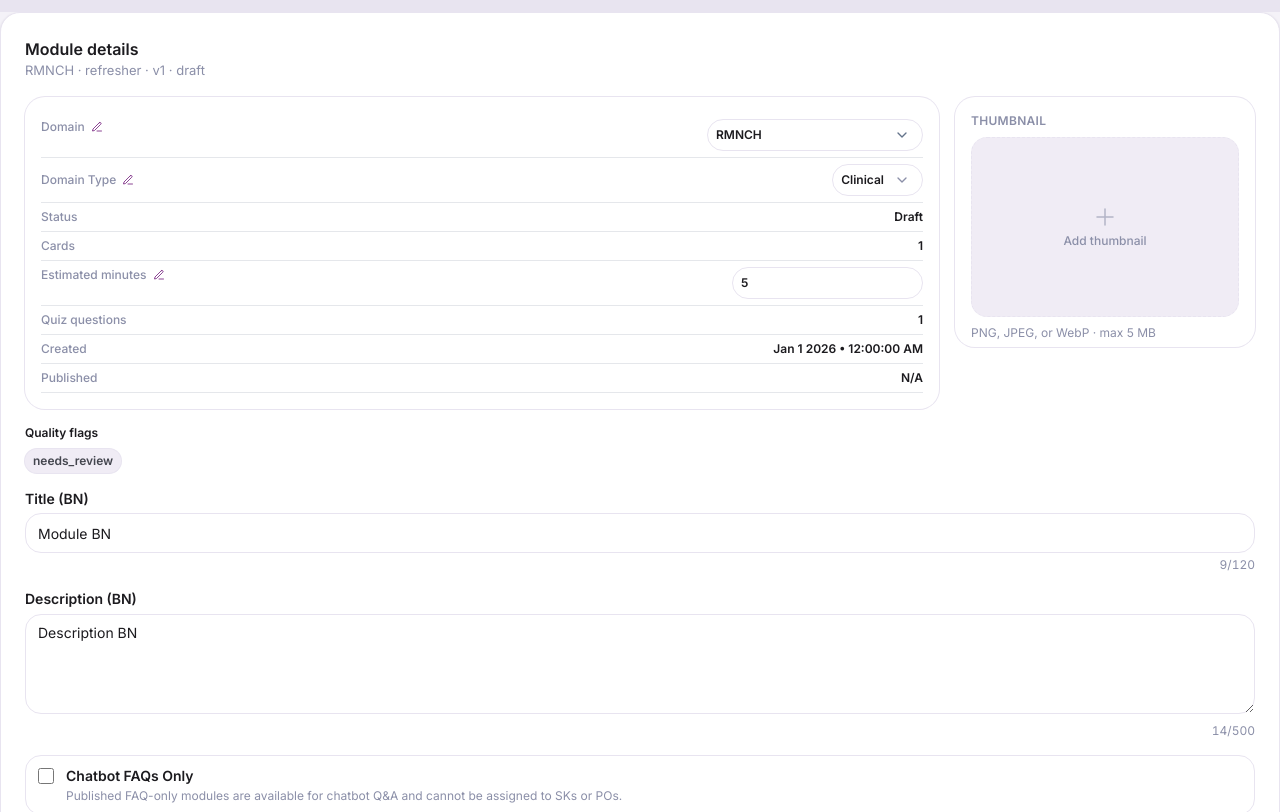
it: AdminModuleDetailsStep › disables continue and save when estimated minutes are invalid
Clear the field named "estimated minutes" at (828, 282), box [732,266,923,298]
(page scrolled)
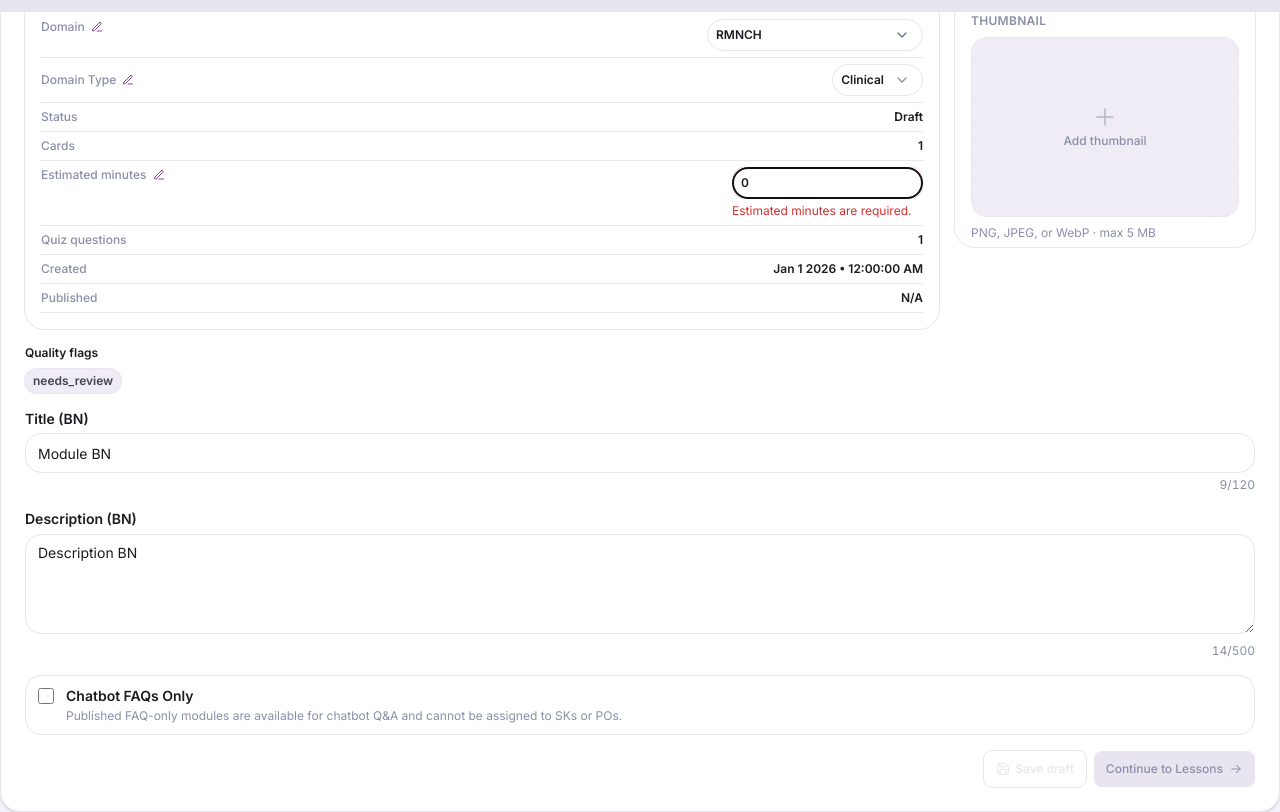
Now the button "Save draft" is disabled, box [984,751,1086,787]
Now the button "Continue to Lessons" is disabled, box [1094,751,1255,787]
